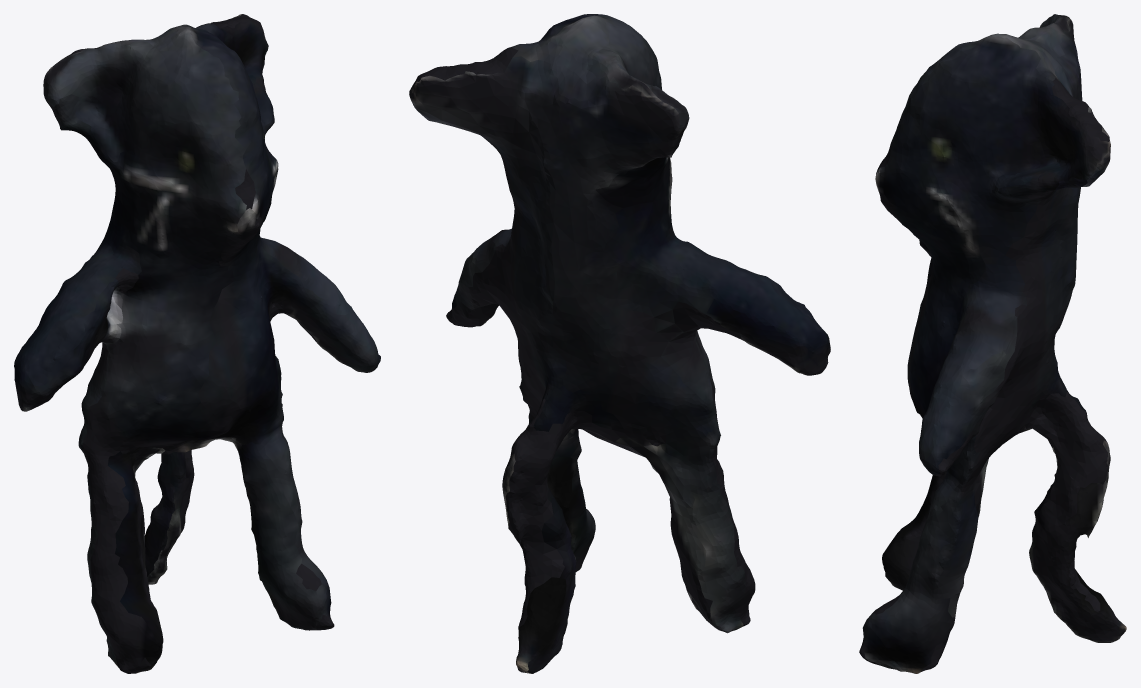
The model's file is nuigurumi.glb.
3 renders of one model, left to right at view 1: azimuth 30°, elevation 25°; view 2: azimuth 150°, elevation 25°; view 3: azimuth 270°, elevation 25°, orthographic. The views are drawn at different scales.
Visible parts, largest first — view 1: mesh; view 2: mesh; view 3: mesh.
Boxes of the visible parts, <box> form: mesh: <box>14,14,380,673</box>; mesh: <box>409,14,830,673</box>; mesh: <box>859,14,1126,673</box>.
Size of the model in its own units: 0.0918 by 0.1423 by 0.0571.
1 material, 1 textured.
